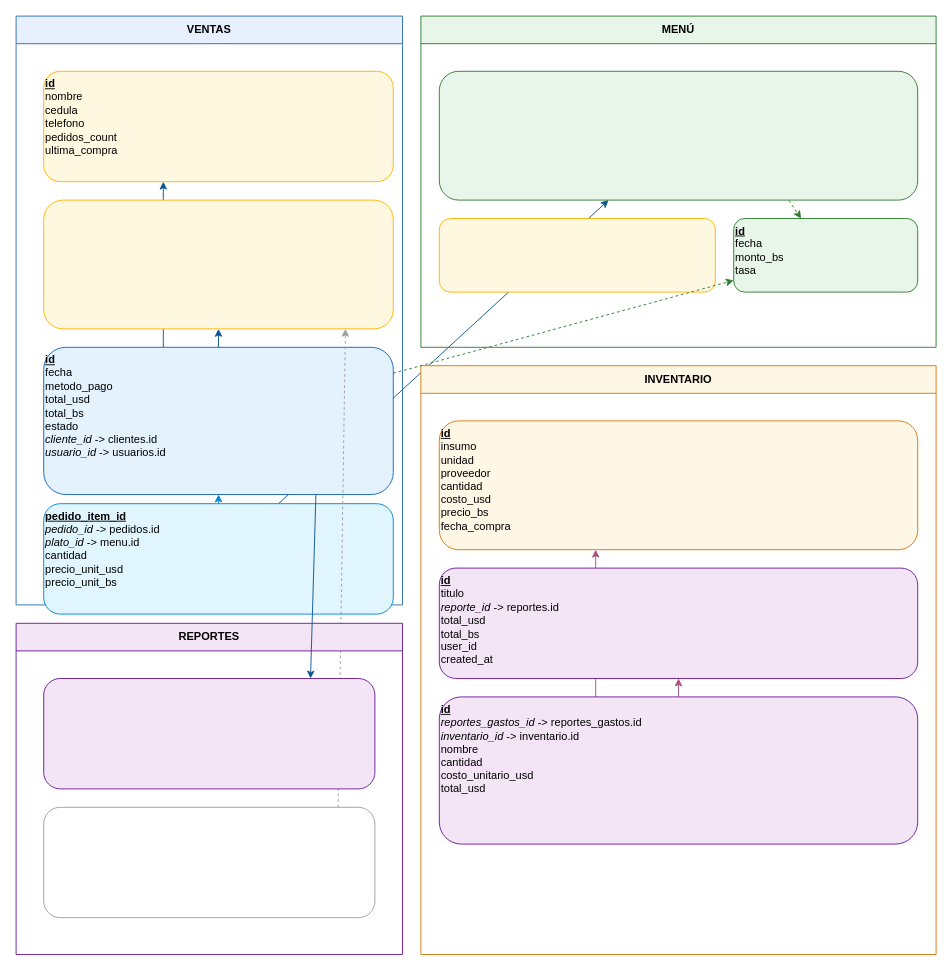
Some shapes in this 952 by 971 pixel diagram are drawn without their labels. The centre of each missing label's shape, as x and y in pixels:
id fecha_reporte usuario tasa_usd_bs total_usd total_bs pedidos_json: the point at 209,733
id nombre correo password rol last_activity_at: the point at 218,264
id nombre_plato descripcion categoria precio_usd precio_bs estado horario: the point at 678,135
id user_id -> usuarios.id action details created_at: the point at 209,862
key value updated_at: the point at 576,255
